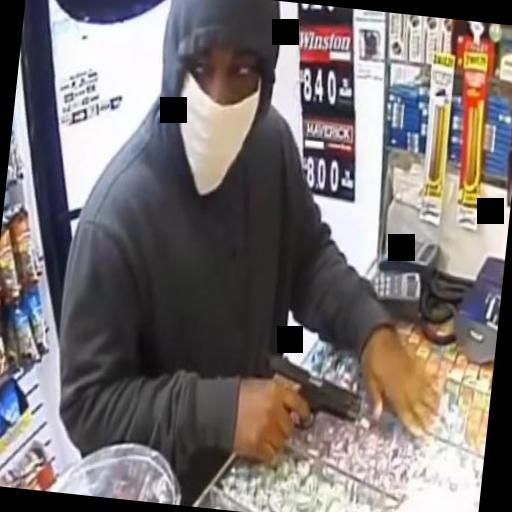Handgun: (250, 350, 364, 470)
